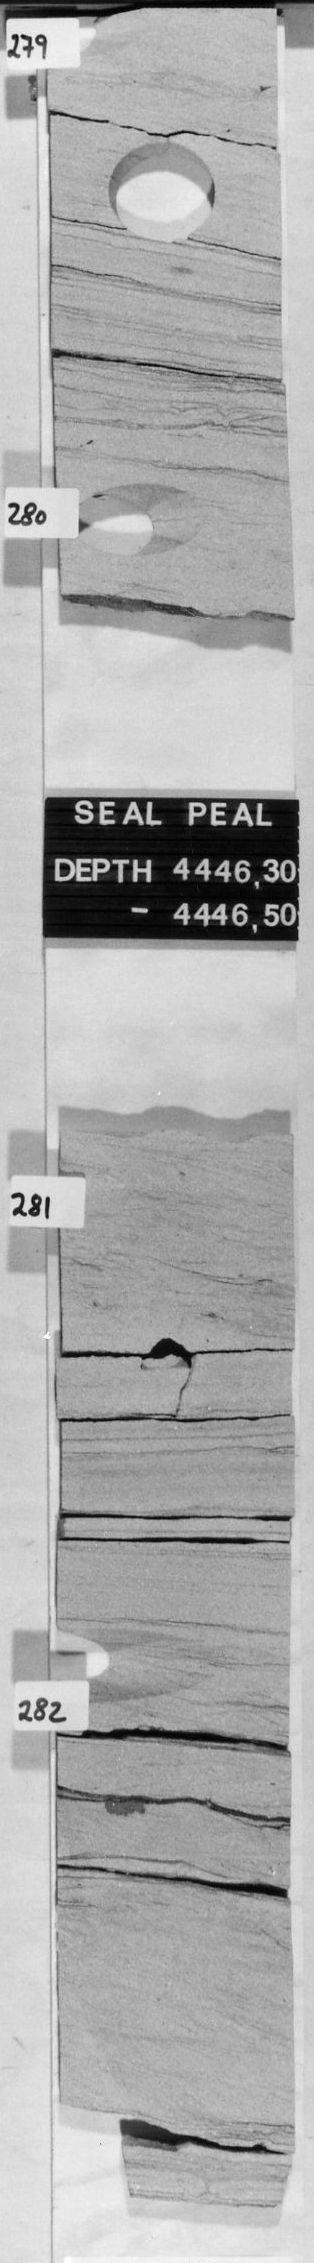hplug: (56, 1616, 229, 1715), (62, 479, 215, 561), (68, 9, 154, 59)
scal: (99, 137, 220, 248)
vplug: (118, 1328, 207, 1422)
